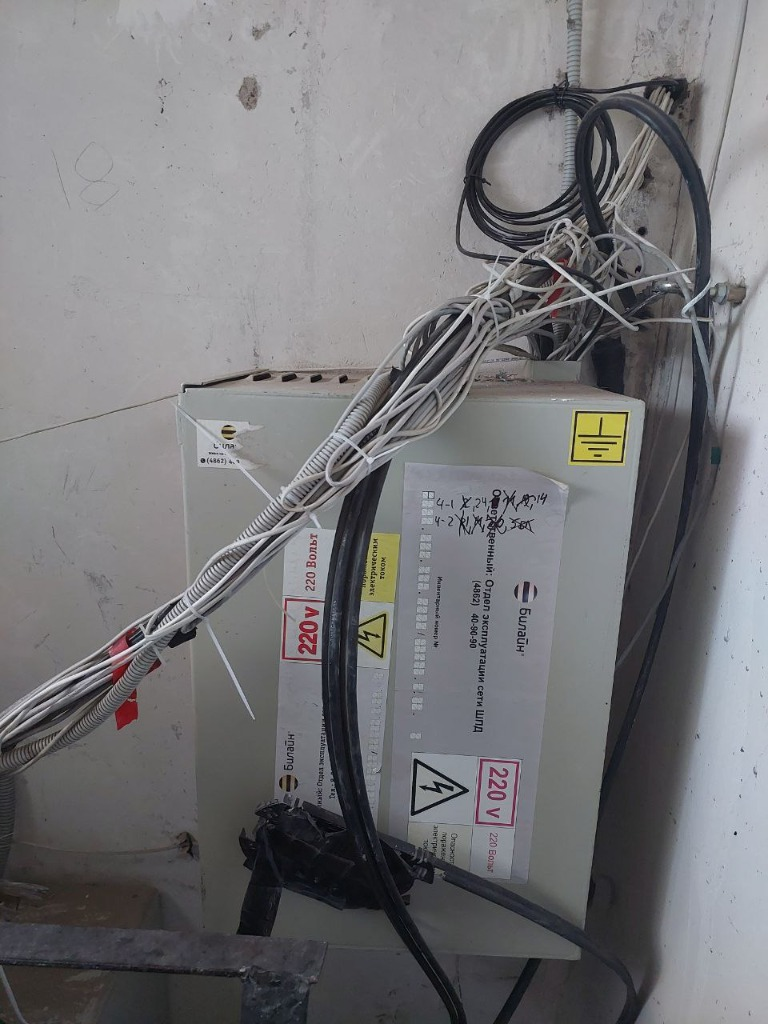sv-5: (170, 358, 648, 961)
